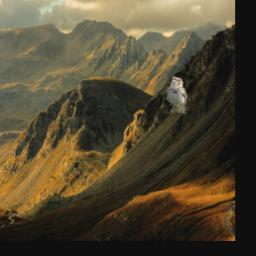Sparrow: (166, 77, 187, 114)
